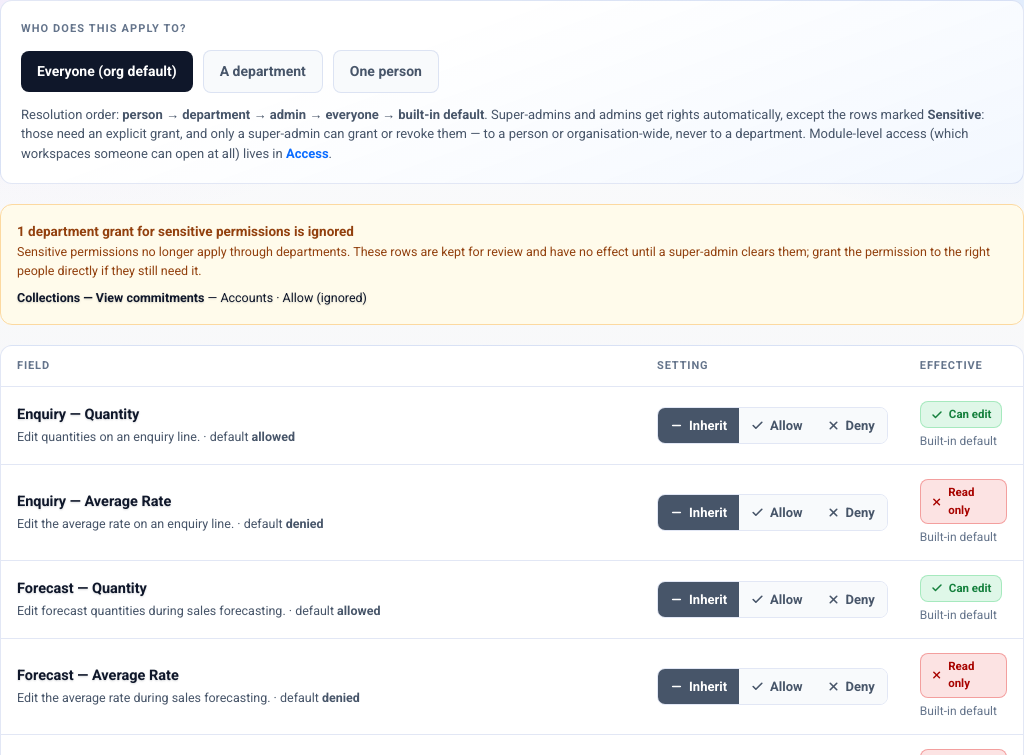
Test: permission matrix — sensitive permissions have no department layer › the live preview ignores the legacy department Allow but still applies an ordinary department Deny
Click the button "A department" at x=263, y=71, box 203,50 -> 323,92
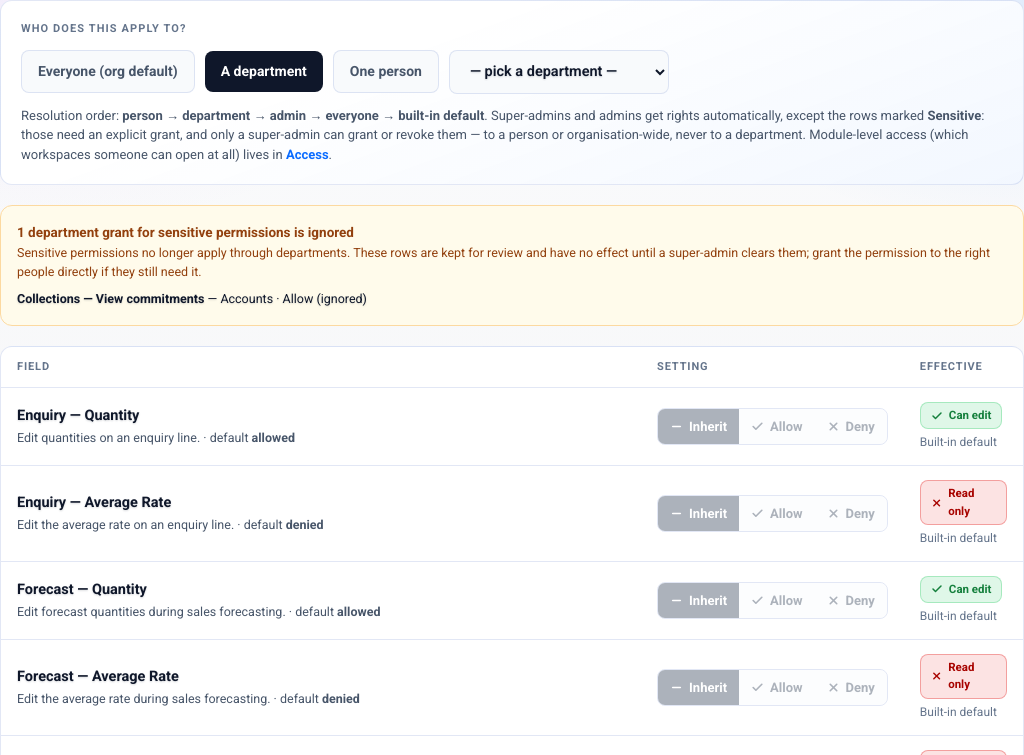
Select "Accounts" in the dropdown at x=559, y=72, box 449,50 -> 669,94
(page scrolled)
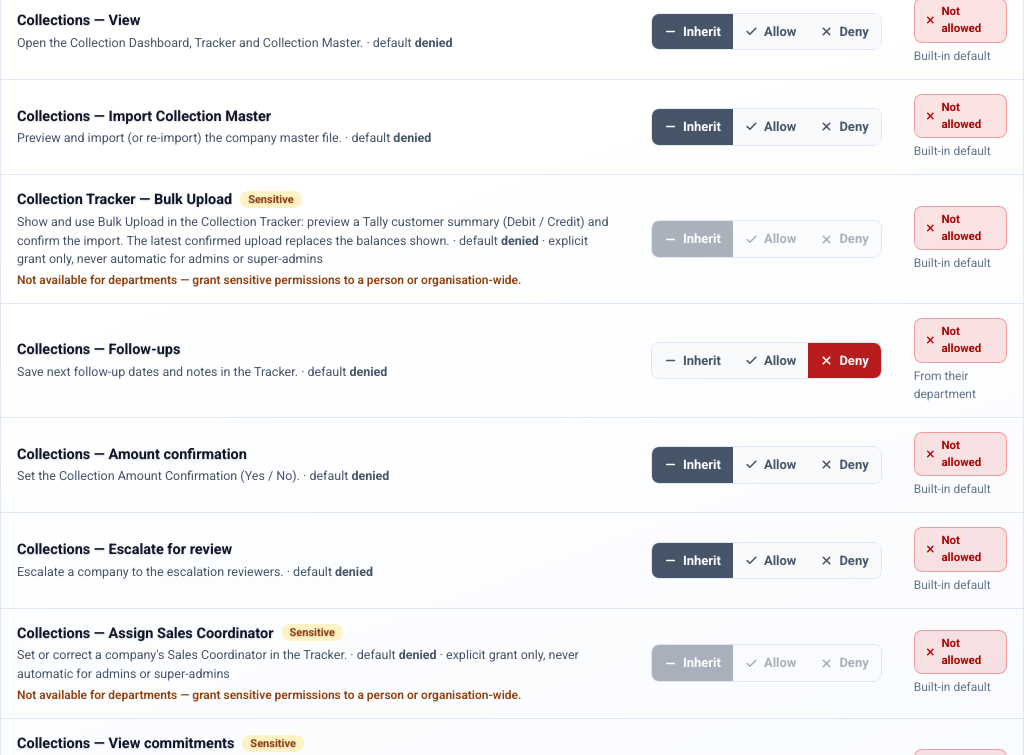
Expected: the text "Not allowed" in the row of "Collections — Follow-ups" is shown, 941,324 -> 981,355
Expected: the text "From their department" is shown, 914,368 -> 976,400
